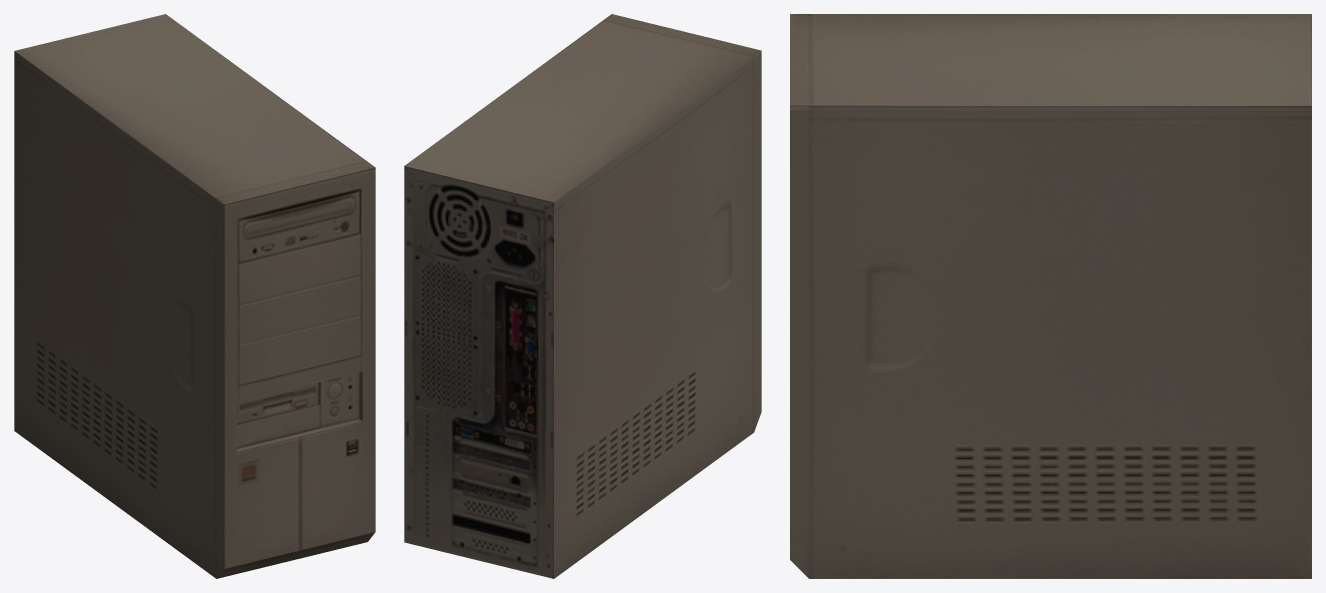
The picture shows the model from 3 angles, left to right: view 1: azimuth 30°, elevation 25°; view 2: azimuth 150°, elevation 25°; view 3: azimuth 270°, elevation 25°; orthographic projection. The views are drawn at different scales.
Visible parts, largest first — view 1: pc_mp_1; view 2: pc_mp_1; view 3: pc_mp_1.
Boxes of the visible parts, x1,y1,x2,y2 form: pc_mp_1: (14,14,375,578); pc_mp_1: (404,14,761,578); pc_mp_1: (790,14,1311,578).
Size of the model in its own units: 0.2295 by 0.5508 by 0.5508.
